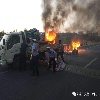fire: (45, 30, 56, 46), (71, 40, 81, 53)
